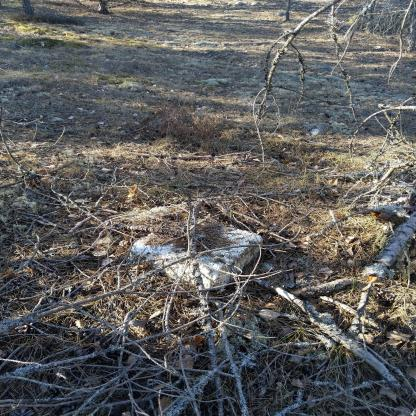trash: (122, 213, 273, 296)
